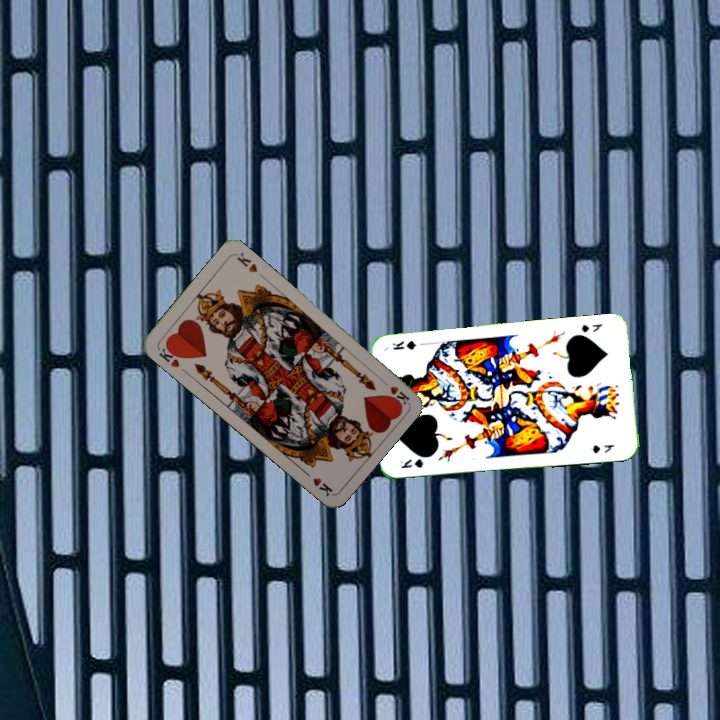GK: (396, 455, 426, 471), (577, 320, 605, 335)
HK: (376, 374, 412, 407), (155, 341, 184, 370)
